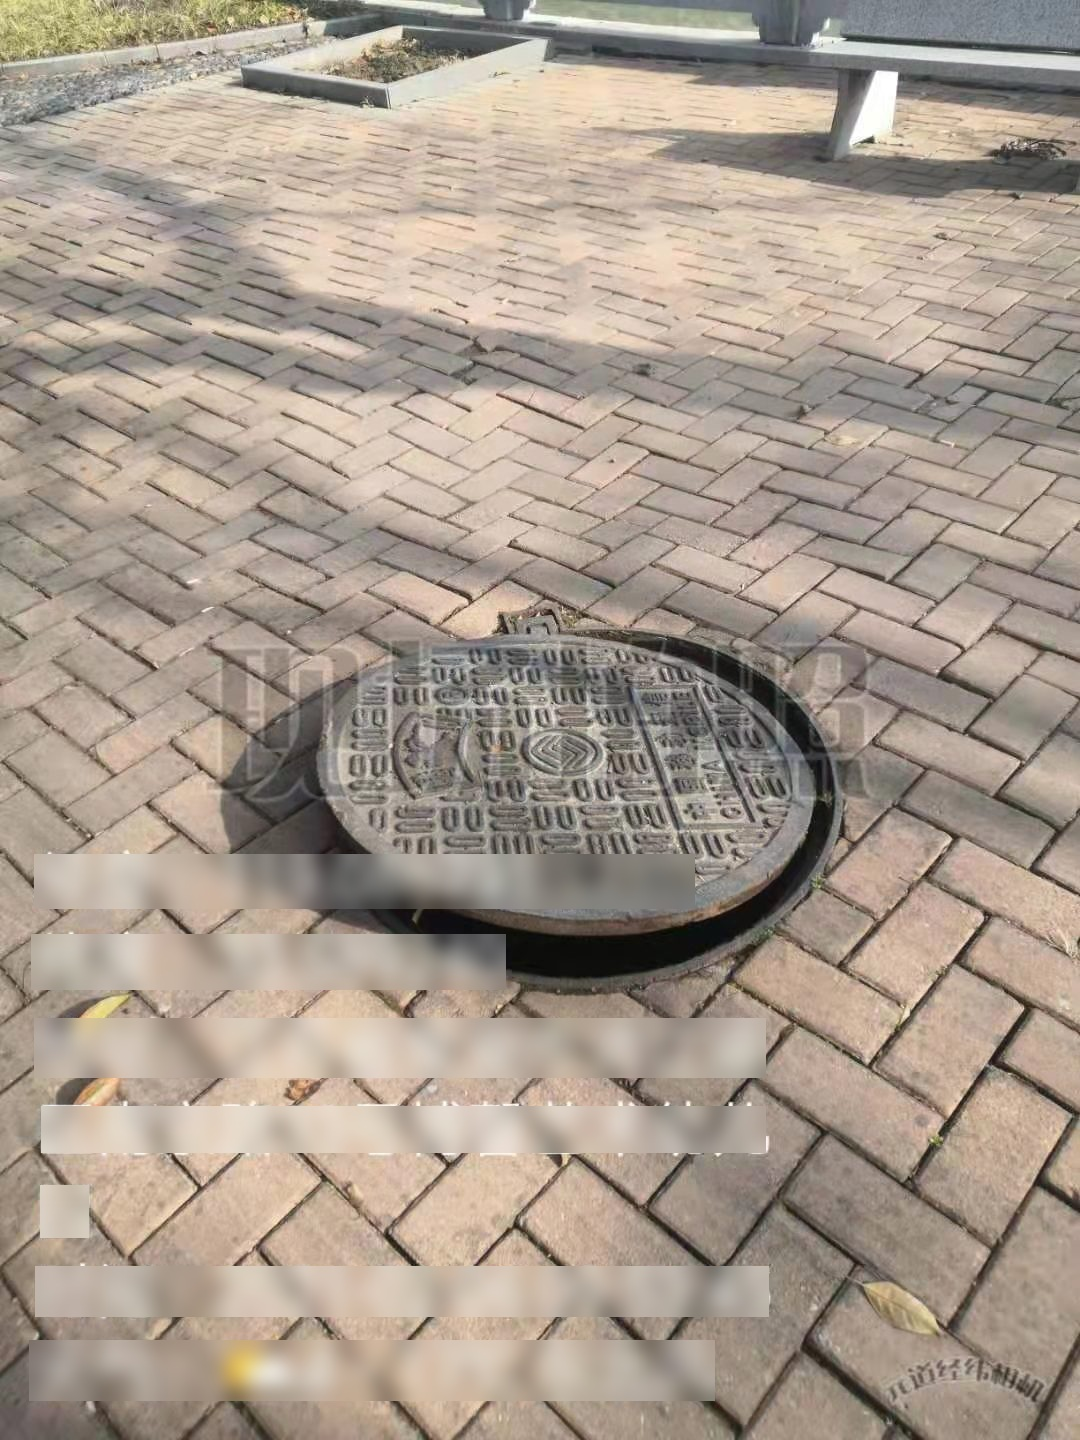uncovered: (319, 611, 845, 989)
